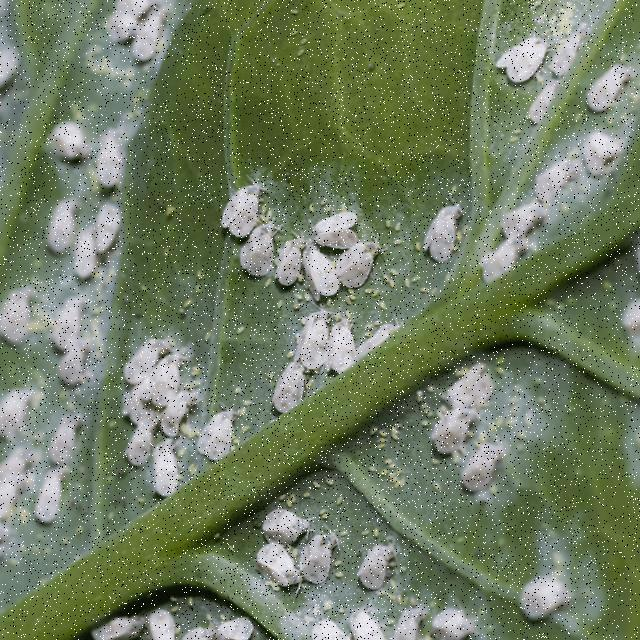Whiteflies: (111, 334, 189, 442), (505, 552, 592, 627), (405, 190, 477, 275), (9, 441, 83, 518), (463, 234, 531, 305), (493, 27, 561, 98), (211, 172, 279, 240), (285, 245, 352, 313), (79, 197, 144, 258), (458, 449, 519, 512), (344, 533, 409, 591), (290, 312, 342, 382), (293, 528, 352, 586), (232, 216, 276, 292), (197, 396, 246, 463), (29, 408, 92, 460), (331, 237, 389, 292), (449, 354, 509, 407), (240, 535, 301, 587), (259, 232, 308, 296), (264, 504, 322, 558), (39, 192, 85, 260), (419, 397, 470, 458), (518, 155, 582, 202), (49, 334, 104, 388), (272, 362, 316, 425), (300, 205, 361, 250), (490, 198, 550, 241), (147, 433, 180, 506), (121, 424, 168, 473), (159, 393, 199, 440)
